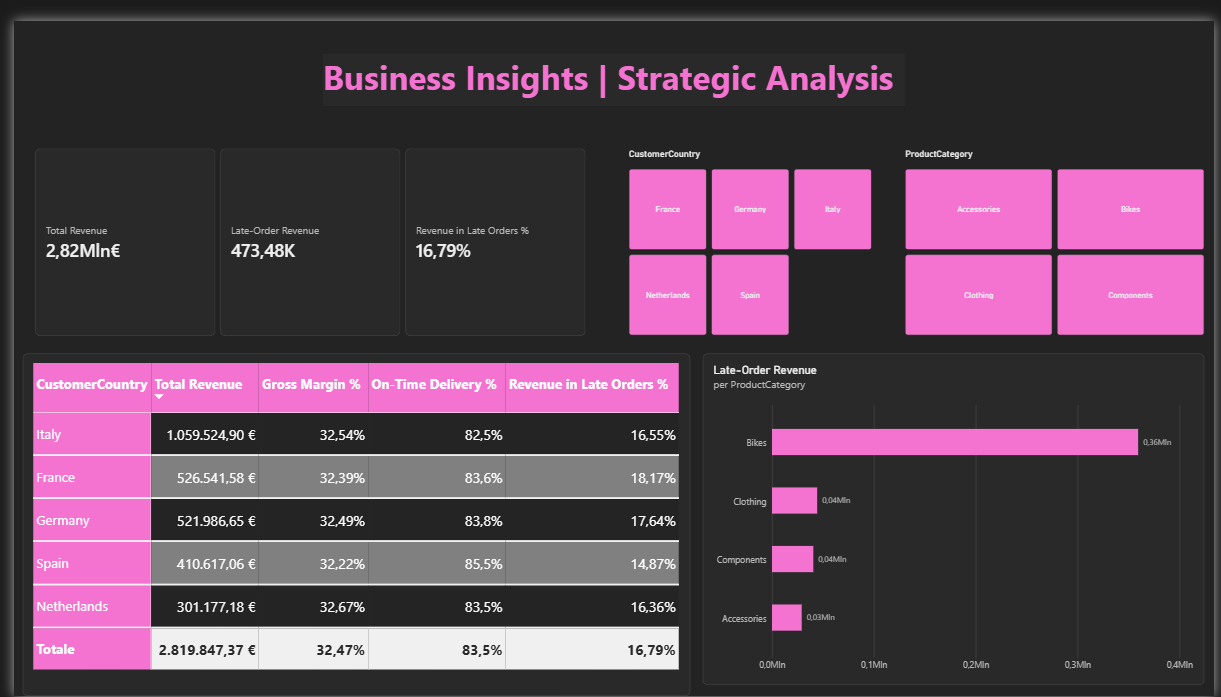

This screenshot's page, from the dashboard's own definition file:
{"tool":"powerbi","page":{"name":"Business Insights","canvas":[1920,1080],"ordinal":2},"visuals":[{"type":"textbox","box":[494,52,932,84],"z":0},{"type":"cardVisual","fields":{"Data":["Sales.Total Revenue","Sales.Late-Order Revenue","Sales.Revenue in Late Orders %"]},"box":[34,204,882,300],"z":1000},{"type":"pivotTable","fields":{"Rows":["Sales.CustomerCountry"],"Values":["Sales.Total Revenue","Sales.Gross Margin %","Sales.On-Time Delivery %","Sales.Revenue in Late Orders %"]},"box":[14,532,1068,548],"z":2000},{"type":"clusteredBarChart","fields":{"Category":["Sales.ProductCategory"],"Y":["Sales.Late-Order Revenue"]},"box":[1102,532,802,530],"z":2001},{"type":"advancedSlicerVisual","fields":{"Values":["Sales.CustomerCountry"]},"box":[984,204,388,300],"z":2002},{"type":"advancedSlicerVisual","fields":{"Values":["Sales.ProductCategory"]},"box":[1426,204,478,300],"z":2003}]}

Visuals, with their boxes in screenshot pixels (x1, y1, x2, y2), scaled from the page's 1920x1080 canvas onto the 1221x697 screenshot:
textbox: left=314, top=34, right=907, bottom=88
cardVisual - Sales.Total Revenue x Sales.Late-Order Revenue: left=22, top=132, right=583, bottom=325
pivotTable - Sales.CustomerCountry x Sales.Total Revenue: left=9, top=343, right=688, bottom=696
clusteredBarChart - Sales.ProductCategory x Sales.Late-Order Revenue: left=701, top=343, right=1211, bottom=685
advancedSlicerVisual - Sales.CustomerCountry: left=626, top=132, right=873, bottom=325
advancedSlicerVisual - Sales.ProductCategory: left=907, top=132, right=1211, bottom=325
